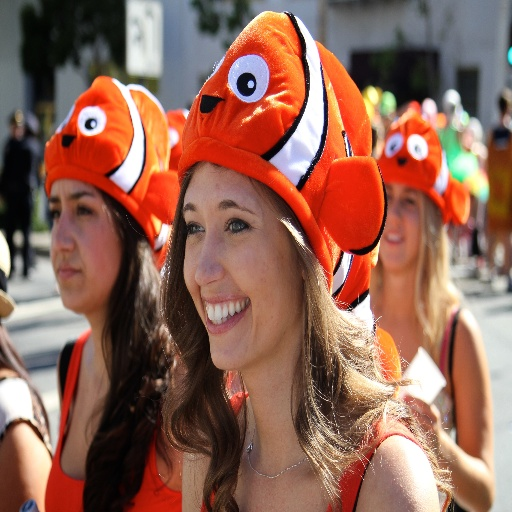hand: (396, 388, 442, 455)
